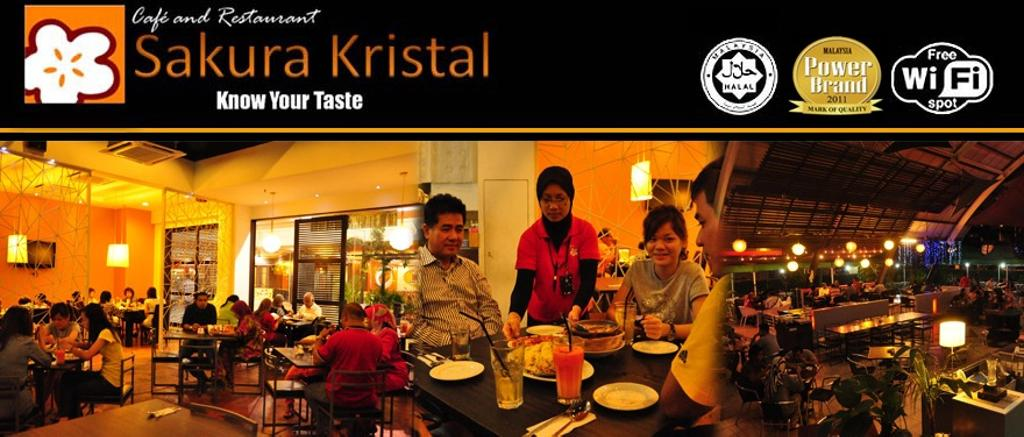face: (695, 200, 730, 273), (645, 228, 681, 266), (431, 214, 463, 255), (539, 193, 571, 221), (52, 315, 65, 328), (197, 296, 206, 308)
